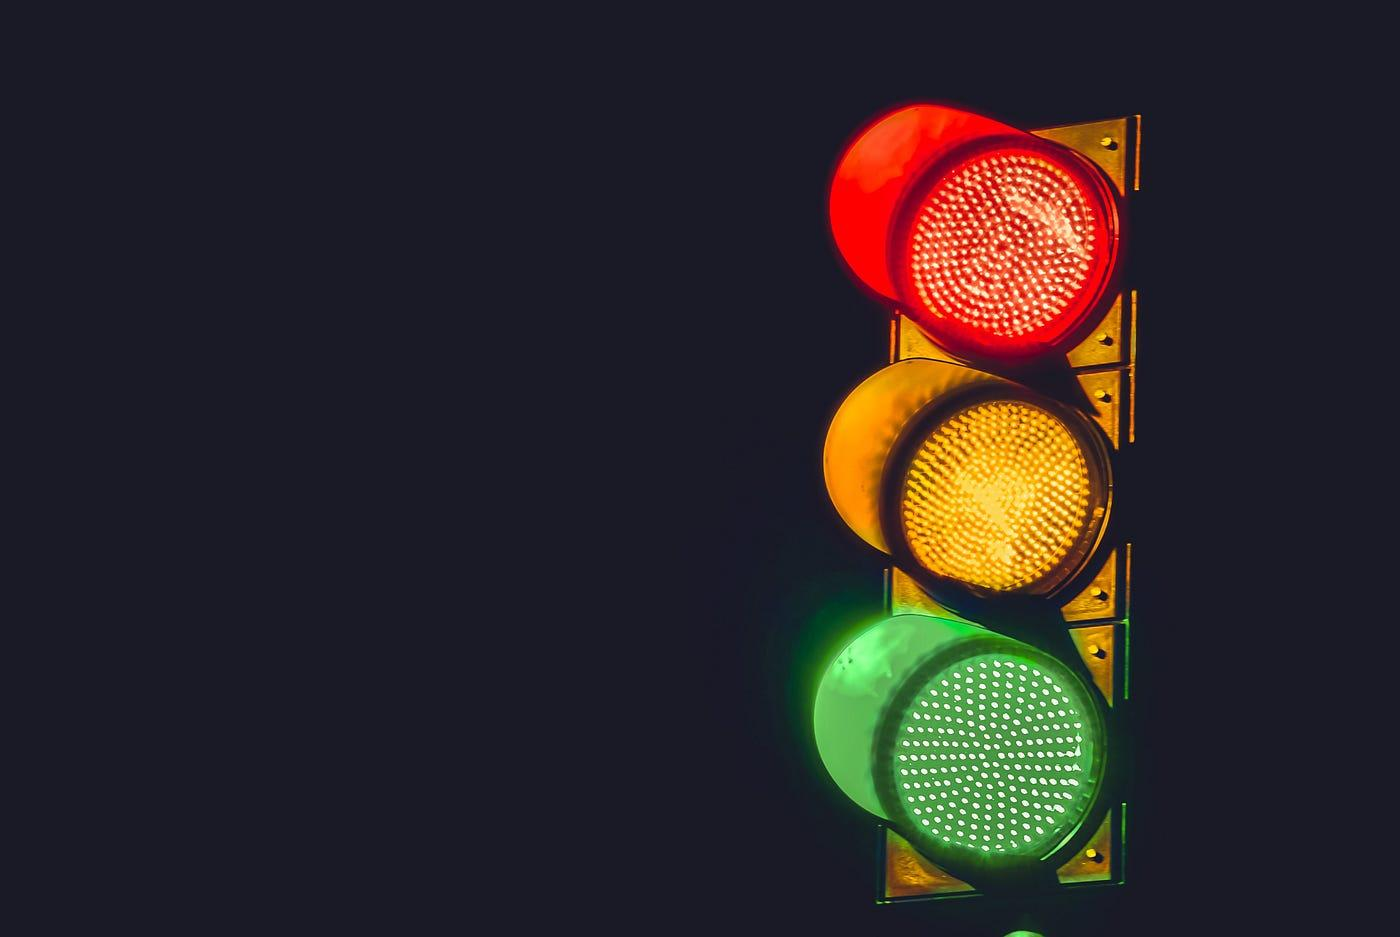traffic light: (710, 63, 1206, 929)
